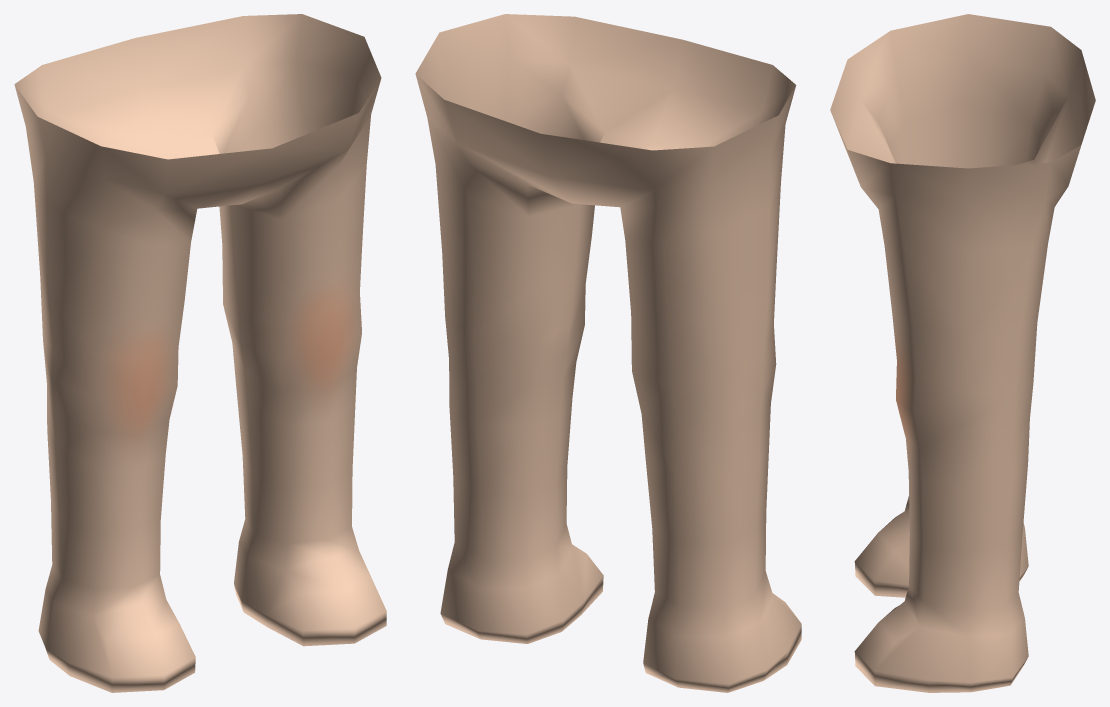
File: Body_Bottom_1.fbx
3 views of the same model, side by side, from view 1: azimuth 30°, elevation 25°; view 2: azimuth 150°, elevation 25°; view 3: azimuth 270°, elevation 25° (orthographic). The views are drawn at different scales.
Visible parts, largest first — view 1: Body_Bottom_1; view 2: Body_Bottom_1; view 3: Body_Bottom_1.
Part boxes in pixels (x1,y1,x2,y2): Body_Bottom_1: (14,14,386,692); Body_Bottom_1: (415,14,801,692); Body_Bottom_1: (830,14,1095,692).
Bounding box in the file's own units: 34.87 × 55.8 × 25.35.
